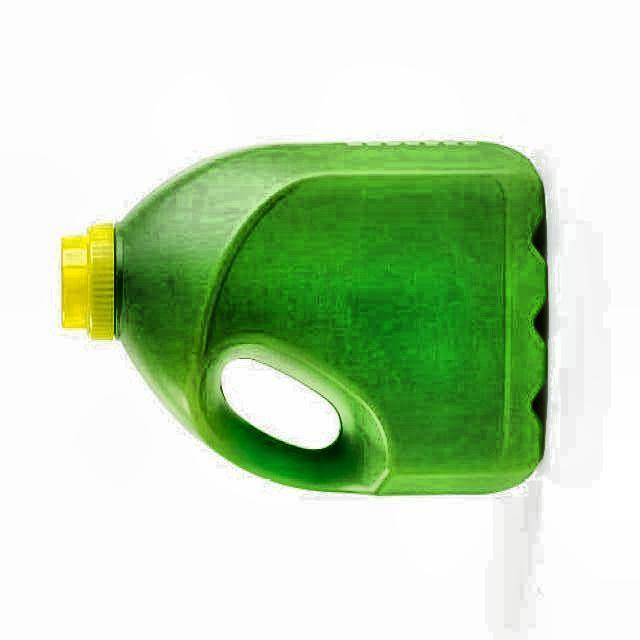plastic: (64, 142, 546, 494)
